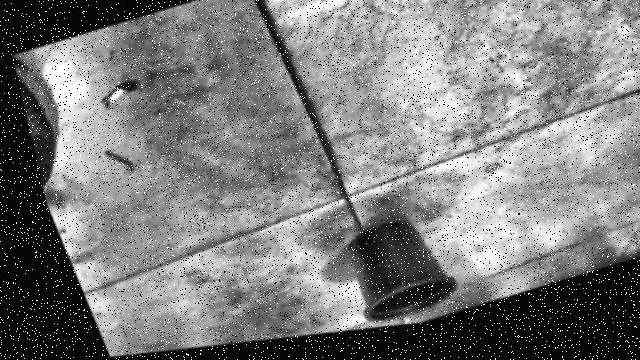pot: (347, 221, 455, 321)
